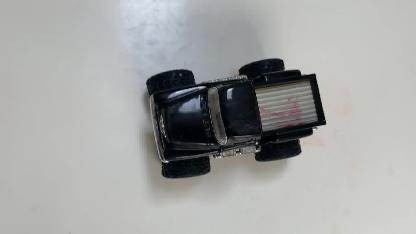black monster truck: (144, 54, 326, 178)
